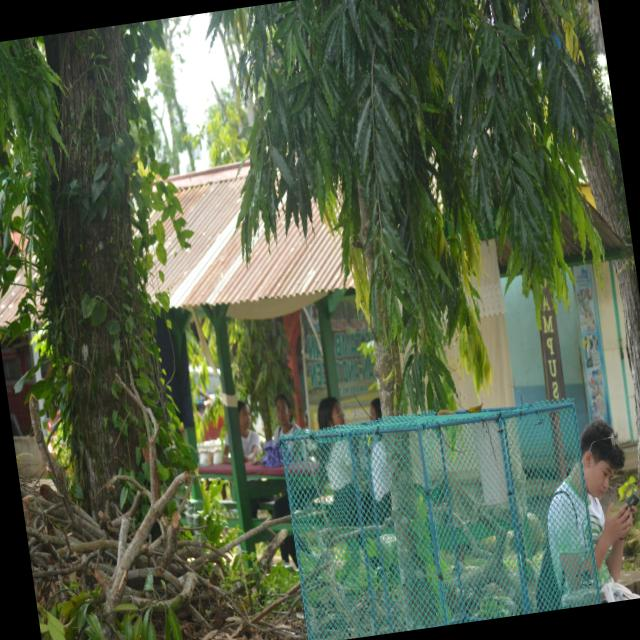person: (547, 420, 635, 604), (237, 401, 261, 462)
